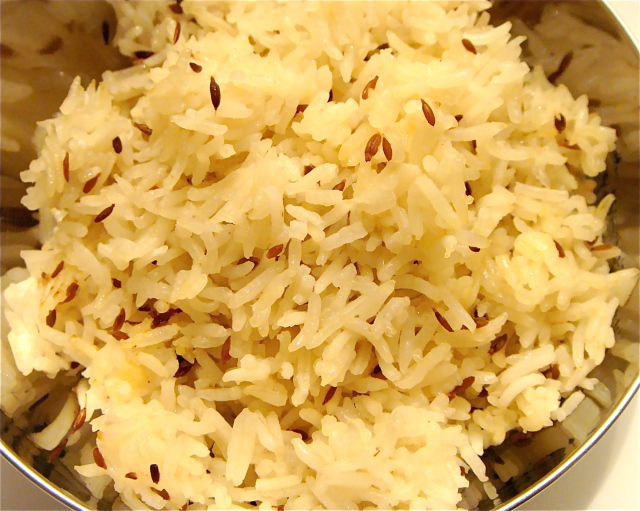plain rice: (184, 92, 451, 479)
